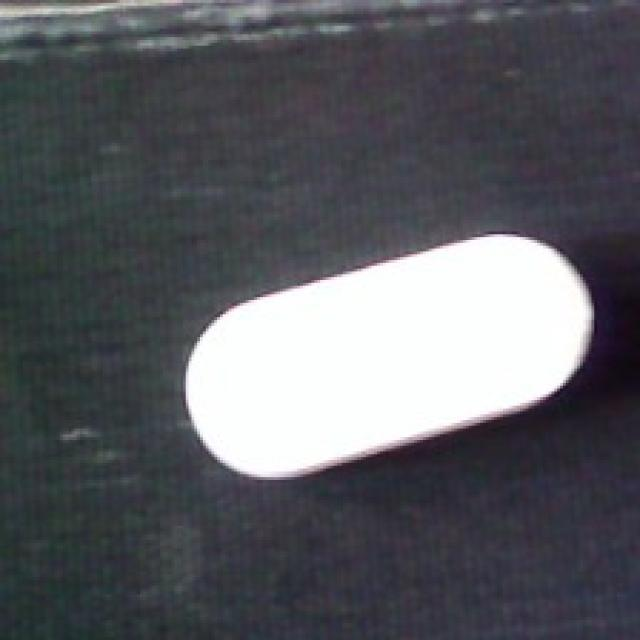no-defect: (183, 231, 597, 484)
